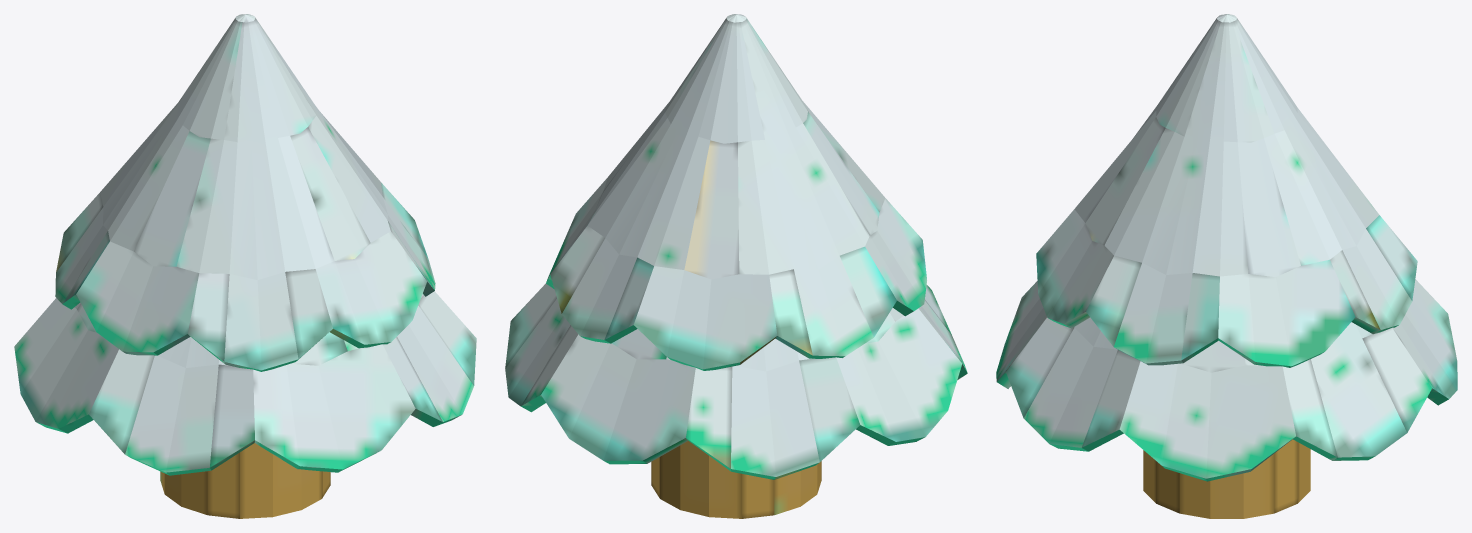
File: n-tree-semi2.glb
3 views of the same model, side by side, from view 1: azimuth 30°, elevation 25°; view 2: azimuth 150°, elevation 25°; view 3: azimuth 270°, elevation 25° (orthographic).
Parts seen in each view (by area): view 1: default; view 2: default; view 3: default.
Part boxes in pixels (x1=…): default: x1=14, y1=14, x2=476, y2=518; default: x1=505, y1=14, x2=967, y2=518; default: x1=996, y1=14, x2=1457, y2=518.
Size of the model in its own units: 2.29 by 2.57 by 2.29.
Materials: 1 (1 with a texture image).
